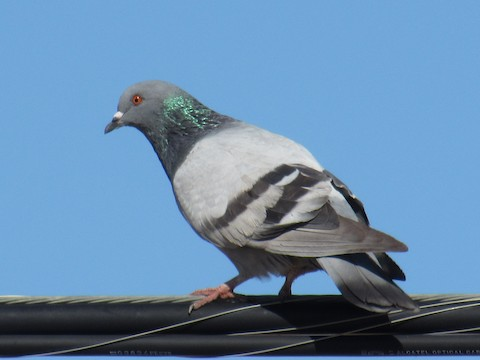pigeon: (98, 75, 434, 322)
